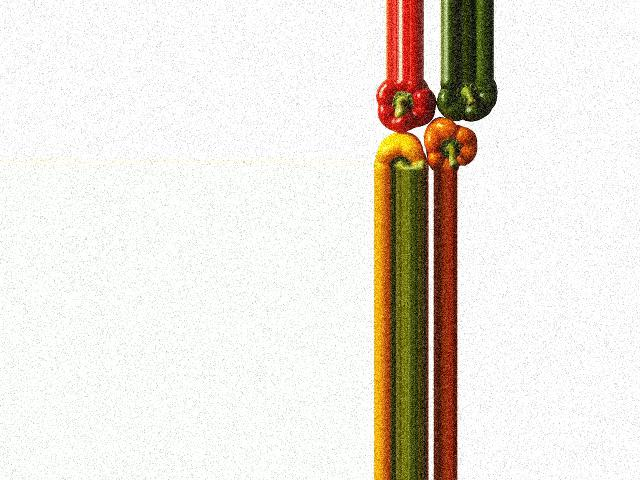bell_pepper: (372, 129, 431, 171)
